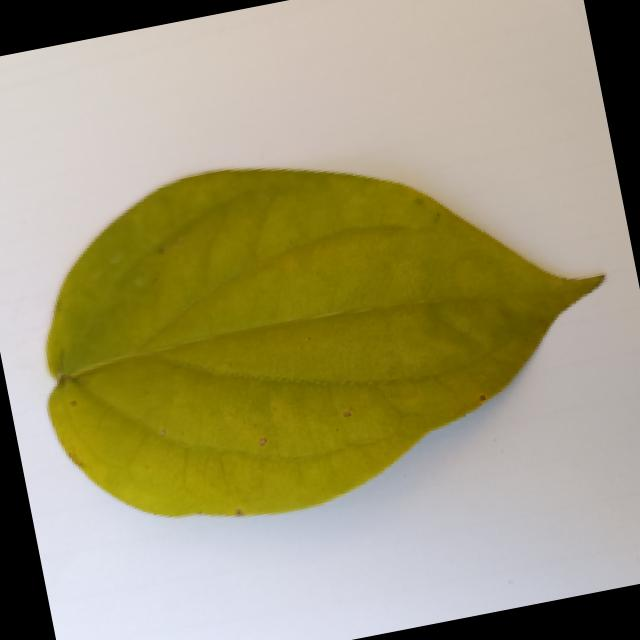slow-decline: (3, 101, 634, 552)
